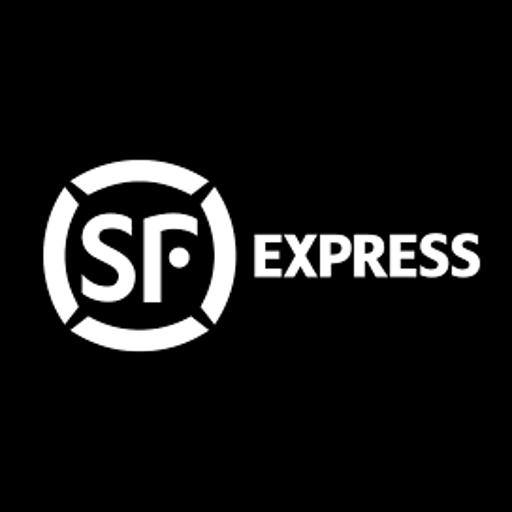SF Express Co: (0, 143, 512, 368)
